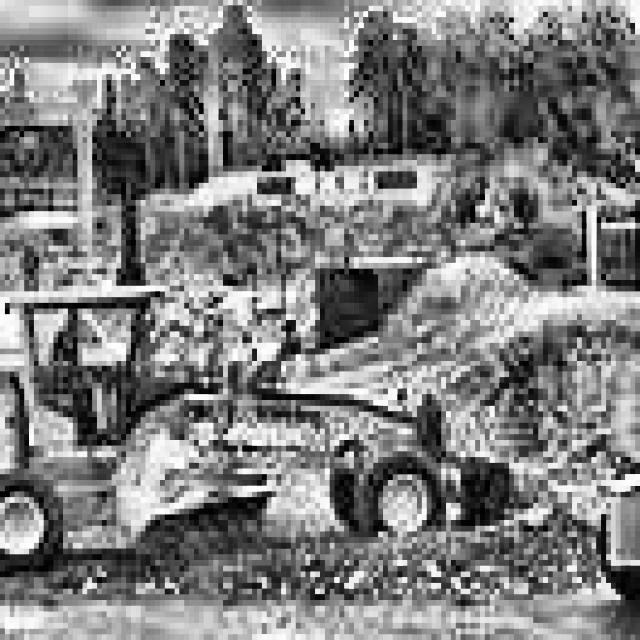buldozerpayloadergrader: (0, 263, 524, 588)
